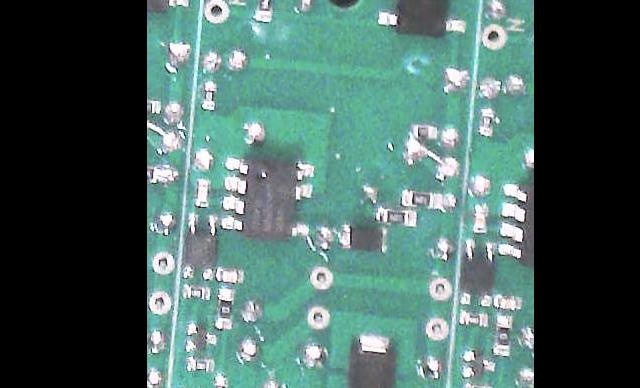chip-capacitor: (471, 203, 489, 237), (192, 178, 211, 208), (214, 269, 245, 285), (494, 295, 522, 311)
chip-resistor: (213, 286, 235, 332), (492, 316, 513, 354), (400, 190, 443, 208), (377, 208, 415, 225), (199, 80, 218, 113), (251, 0, 274, 24), (477, 108, 495, 138), (408, 124, 436, 143), (180, 285, 212, 301), (457, 311, 489, 327), (184, 358, 215, 374), (210, 374, 227, 388), (461, 384, 492, 388)
diode: (342, 334, 396, 388), (336, 226, 388, 254)
ic: (218, 155, 314, 240), (372, 0, 469, 39), (178, 213, 218, 282), (457, 240, 496, 308)
transistor: (459, 347, 496, 380), (182, 322, 218, 355)
